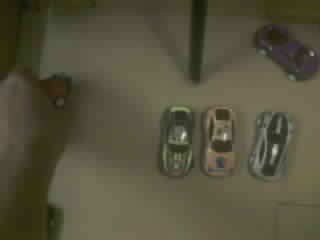Car: (255, 24, 316, 76), (250, 112, 292, 179), (200, 107, 235, 175), (160, 105, 193, 176), (41, 75, 67, 106)
